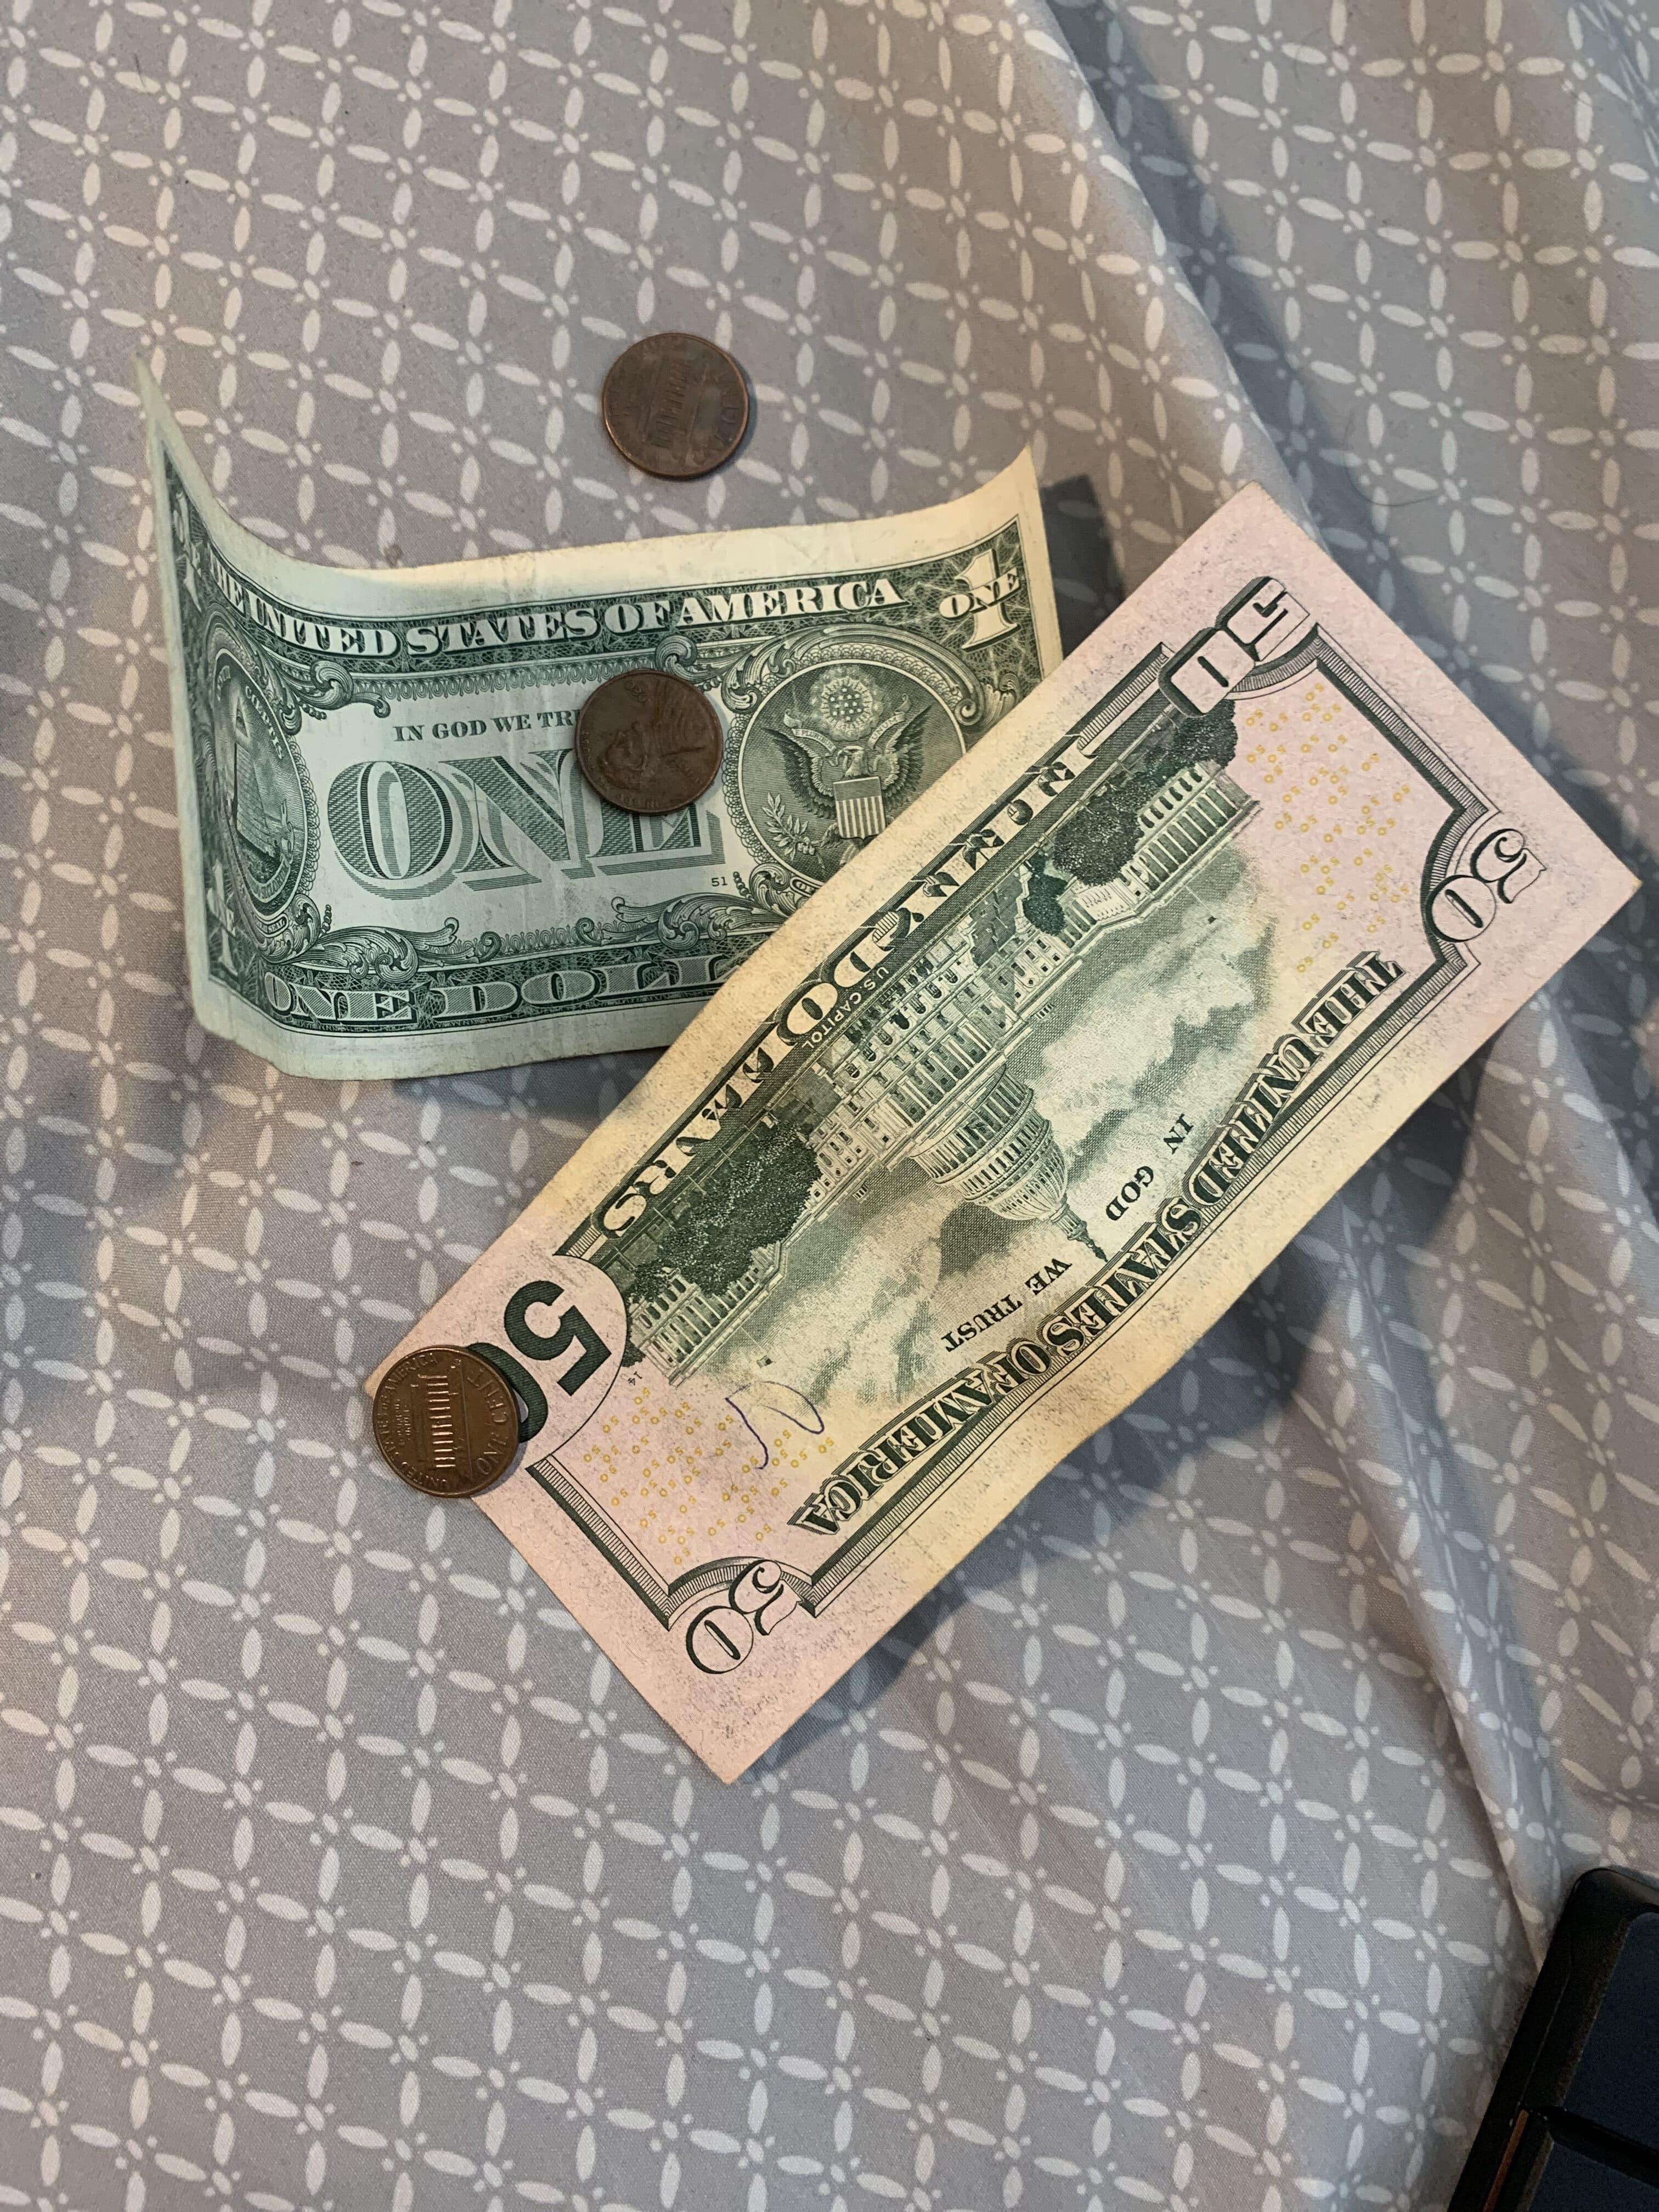FiftyBill: (333, 477, 1652, 1813)
OneBill: (82, 350, 1119, 1106)
Penny: (552, 629, 765, 860), (570, 314, 796, 510), (328, 1327, 540, 1514)
